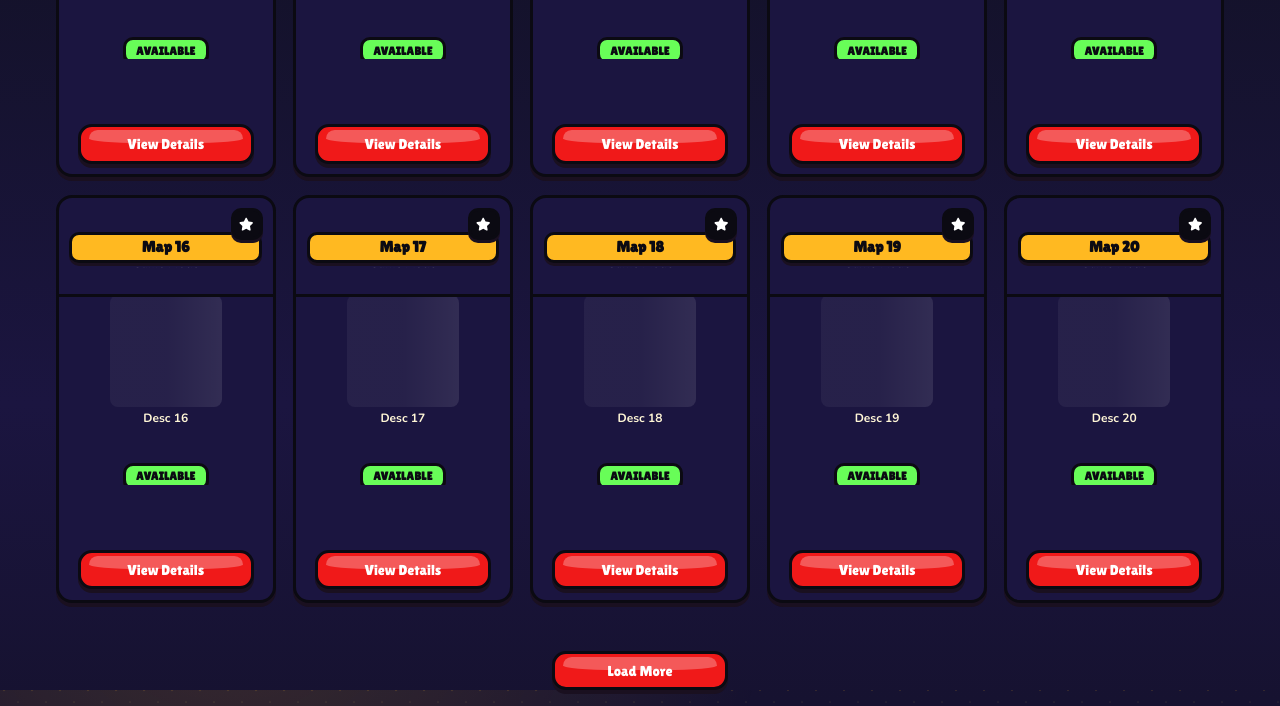
Cards › when searchType is "maps" › should display more maps when "Load More" is clicked
(page scrolled)
Click the button "Load More".
click(640, 671)  # box [552, 651, 728, 690]
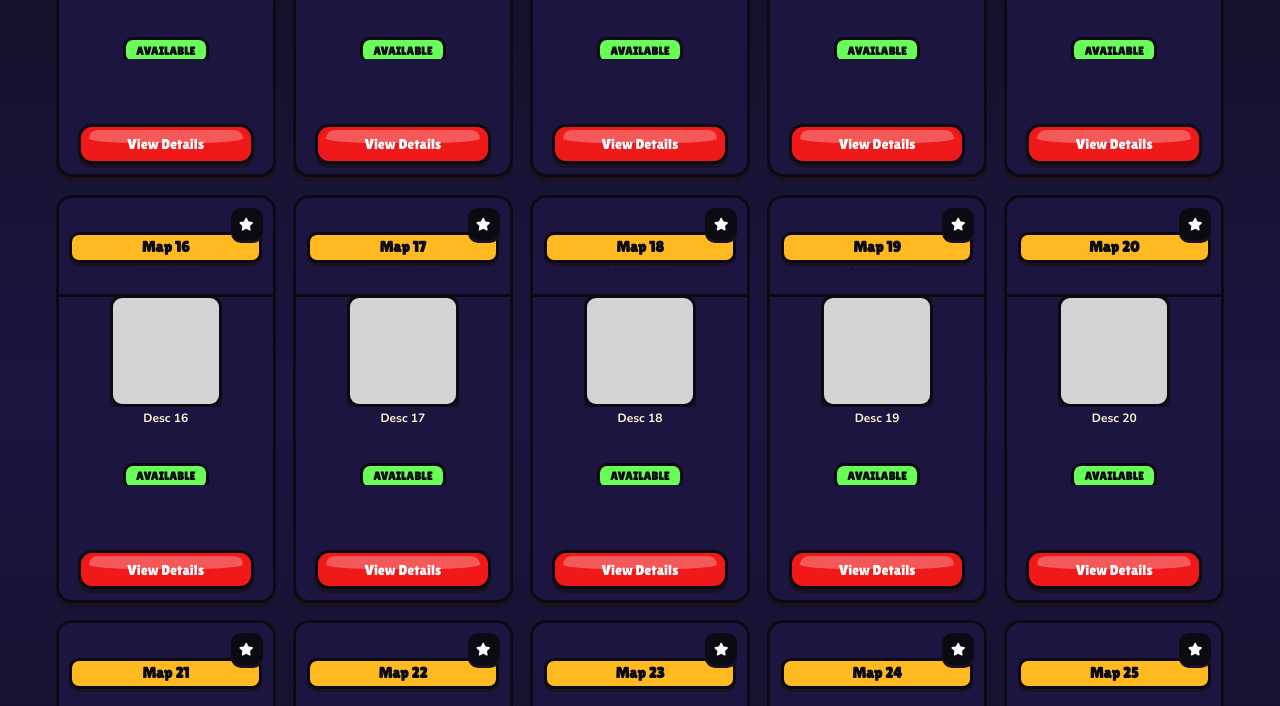
Check: the heading "Map 21" is shown, box [69, 658, 262, 689]
Check: the heading "Map 25" is shown, box [1018, 658, 1211, 689]
